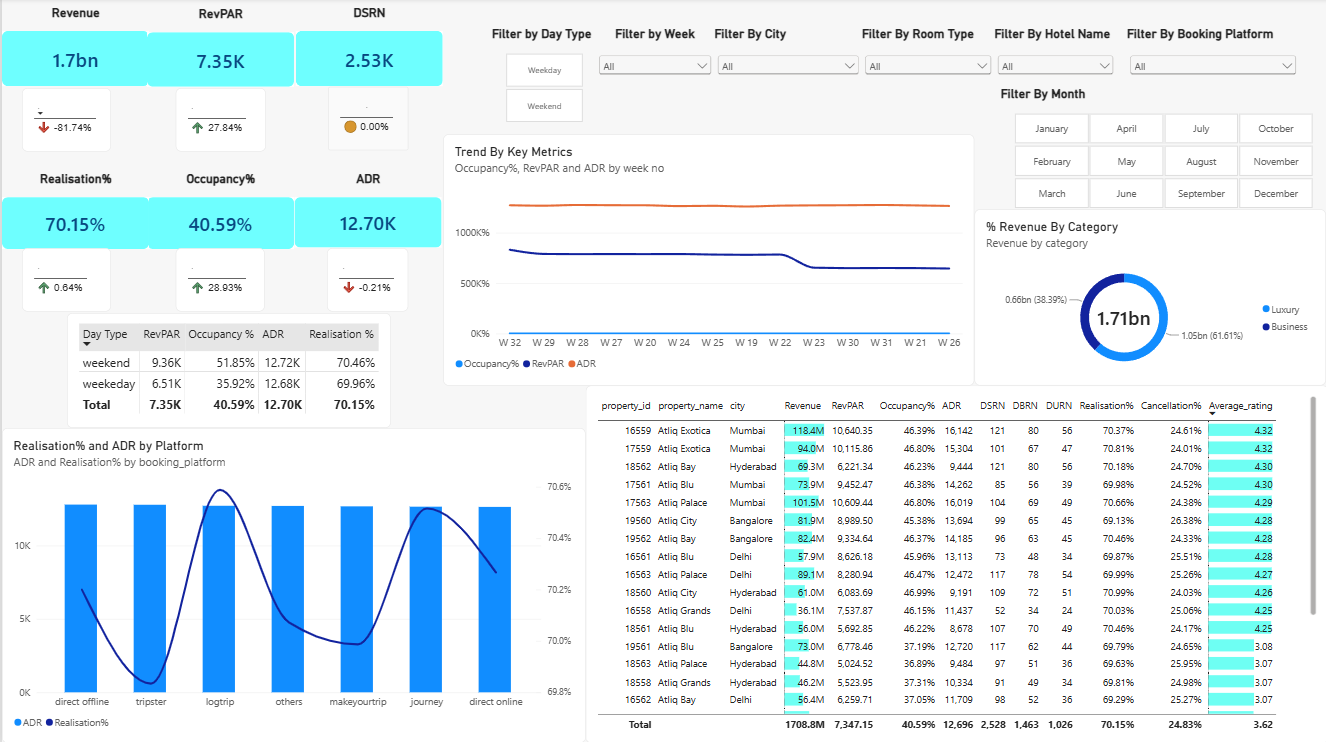

The dashboard page shown, as its layout file describes it:
{"tool":"powerbi","page":{"name":"Home","canvas":[1920,1080],"ordinal":1},"visuals":[{"type":"tableEx","fields":{"Values":["dim_hotels.property_id","dim_hotels.property_name","dim_hotels.city","key_measures.Revenue","key_measures.RevPAR","key_measures.Occupancy%","key_measures.ADR","key_measures.DSRN","key_measures.DBRN","key_measures.DURN","key_measures.Realisation%","key_measures.Cancellation%"]},"box":[845.1,561,1074.9,519.4],"z":0},{"type":"slicer","title":"Filter By City","fields":{"Values":["dim_hotels.city"]},"box":[1031.5,41.6,213.5,94.1],"z":1000},{"type":"slicer","title":"Filter By Room Type","fields":{"Values":["dim_rooms.room_class"]},"box":[1245,41.6,191.8,94.1],"z":2000},{"type":"slicer","title":"Filter By Hotel Name","fields":{"Values":["dim_hotels.property_name"]},"box":[1436.9,41.6,177.3,94.1],"z":3000},{"type":"slicer","title":"Filter By Booking Platform","fields":{"Values":["fact_bookings.booking_platform"]},"box":[1628.7,41.6,249.7,94.1],"z":4000},{"type":"slicer","title":"Filter By Month","fields":{"Values":["dim_date.mmm yy.Variation.Date Hierarchy.Month"]},"box":[1445.9,148.4,470.5,177.3],"z":5000},{"type":"slicer","title":"Filter by Day Type","fields":{"Values":["dim_date.WeekEnd"]},"box":[664.1,41.6,181,139.3],"z":6000},{"type":"slicer","title":"Filter by Week","fields":{"Values":["dim_date.week no"]},"box":[859.6,41.6,171.9,106.8],"z":7000},{"type":"cardVisual","title":"Revenue","fields":{"Data":["key_measures.Revenue"]},"box":[0,10.9,213.5,117.6],"z":8000},{"type":"tableEx","fields":{"Values":["key_measures.Revenue_WoW_change%"]},"box":[29,130.3,128.5,92.3],"z":9000},{"type":"cardVisual","title":"Occupancy%","fields":{"Data":["key_measures.Occupancy%"]},"box":[209.9,251.5,213.5,112.2],"z":10000},{"type":"cardVisual","title":"RevPAR","fields":{"Data":["key_measures.RevPAR"]},"box":[209.9,12.7,213.5,115.8],"z":11000},{"type":"cardVisual","title":"DSRN","fields":{"Data":["key_measures.DSRN"]},"box":[425.3,10.9,213.5,117.6],"z":12000},{"type":"cardVisual","title":"ADR","fields":{"Data":["key_measures.ADR"]},"box":[423.5,251.5,213.5,110.4],"z":13000},{"type":"cardVisual","title":"Realisation%","fields":{"Data":["key_measures.Realisation%"]},"box":[0,251.5,213.5,112.2],"z":14000},{"type":"tableEx","fields":{"Values":["key_measures.RevPAR_WoW_change%"]},"box":[251.5,130.3,130.3,92.3],"z":15000},{"type":"tableEx","fields":{"Values":["key_measures.DSRN_WoW_change%"]},"box":[472.3,128.5,115.8,92.3],"z":16000},{"type":"tableEx","fields":{"Values":["key_measures.Realisation_WoW_change%"]},"box":[29,361.9,128.5,92.3],"z":17000},{"type":"tableEx","fields":{"Values":["key_measures.Occupancy_WoW_change%"]},"box":[251.5,361.9,128.5,92.3],"z":18000},{"type":"tableEx","fields":{"Values":["key_measures.ADR_WoW_change%"]},"box":[470.5,361.9,117.6,92.3],"z":19000},{"type":"donutChart","title":"% Revenue By Category","fields":{"Category":["dim_hotels.category"],"Y":["key_measures.Revenue"]},"box":[1407.9,322.1,508.5,238.9],"z":20000},{"type":"lineChart","title":"Trend By Key Metrics","fields":{"Category":["dim_date.week no"],"Y":["key_measures.Occupancy%","key_measures.RevPAR","key_measures.ADR"]},"box":[638.8,197.3,769.1,363.7],"z":21000},{"type":"lineClusteredColumnComboChart","title":"Realisation% and ADR by Platform","fields":{"Category":["fact_bookings.booking_platform"],"Y":["key_measures.ADR"],"Y2":["key_measures.Realisation%"]},"box":[0,622.5,845.1,457.8],"z":22000},{"type":"tableEx","fields":{"Values":["dim_date.day_type","key_measures.RevPAR","key_measures.Occupancy%","key_measures.ADR","key_measures.Realisation%"]},"box":[94.1,456,468.7,166.5],"z":23000}]}

Visuals, with their boxes in screenshot pixels (x1, y1, x2, y2), scaled from the page's 1920x1080 canvas onto the 1326x742 screenshot:
tableEx - dim_hotels.property_id x dim_hotels.property_name: [x1=584, y1=385, x2=1325, y2=741]
"Filter By City" slicer: [x1=712, y1=29, x2=860, y2=93]
"Filter By Room Type" slicer: [x1=860, y1=29, x2=992, y2=93]
"Filter By Hotel Name" slicer: [x1=992, y1=29, x2=1115, y2=93]
"Filter By Booking Platform" slicer: [x1=1125, y1=29, x2=1297, y2=93]
"Filter By Month" slicer: [x1=999, y1=102, x2=1324, y2=224]
"Filter by Day Type" slicer: [x1=459, y1=29, x2=584, y2=124]
"Filter by Week" slicer: [x1=594, y1=29, x2=712, y2=102]
"Revenue" cardVisual: [x1=0, y1=7, x2=147, y2=88]
tableEx - key_measures.Revenue_WoW_change%: [x1=20, y1=90, x2=109, y2=153]
"Occupancy%" cardVisual: [x1=145, y1=173, x2=292, y2=250]
"RevPAR" cardVisual: [x1=145, y1=9, x2=292, y2=88]
"DSRN" cardVisual: [x1=294, y1=7, x2=441, y2=88]
"ADR" cardVisual: [x1=292, y1=173, x2=440, y2=249]
"Realisation%" cardVisual: [x1=0, y1=173, x2=147, y2=250]
tableEx - key_measures.RevPAR_WoW_change%: [x1=174, y1=90, x2=264, y2=153]
tableEx - key_measures.DSRN_WoW_change%: [x1=326, y1=88, x2=406, y2=152]
tableEx - key_measures.Realisation_WoW_change%: [x1=20, y1=249, x2=109, y2=312]
tableEx - key_measures.Occupancy_WoW_change%: [x1=174, y1=249, x2=262, y2=312]
tableEx - key_measures.ADR_WoW_change%: [x1=325, y1=249, x2=406, y2=312]
"% Revenue By Category" donutChart: [x1=972, y1=221, x2=1324, y2=385]
"Trend By Key Metrics" lineChart: [x1=441, y1=136, x2=972, y2=385]
"Realisation% and ADR by Platform" lineClusteredColumnComboChart: [x1=0, y1=428, x2=584, y2=741]
tableEx - dim_date.day_type x key_measures.RevPAR: [x1=65, y1=313, x2=389, y2=428]
